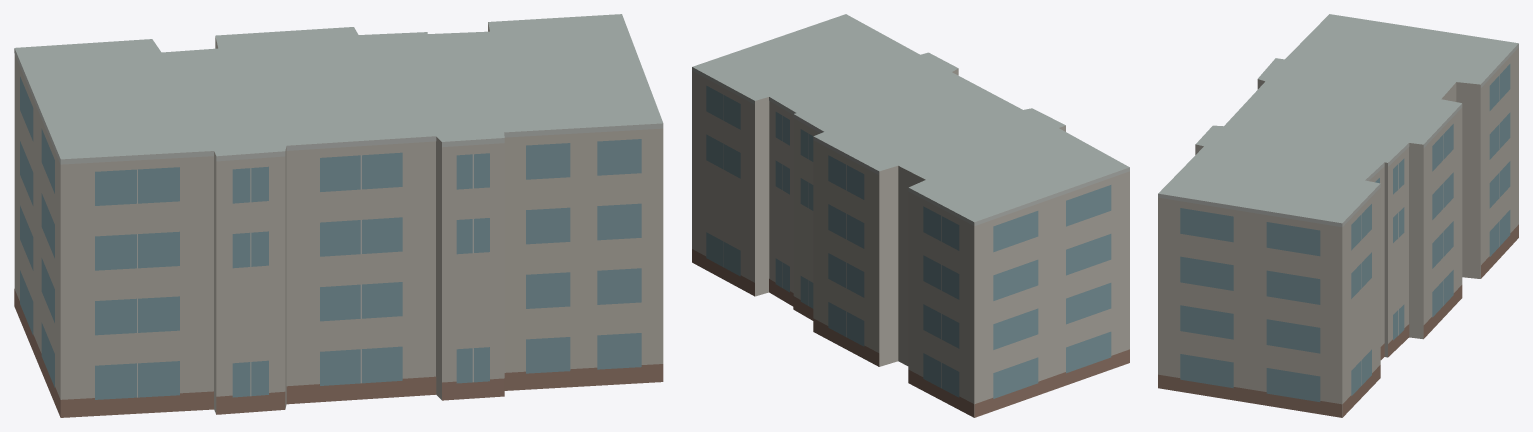
File: survey-upis-33008699.glb
The picture shows the model from 3 angles, left to right: view 1: azimuth 30°, elevation 25°; view 2: azimuth 150°, elevation 25°; view 3: azimuth 270°, elevation 25°; orthographic projection. The views are drawn at different scales.
Parts seen in each view (by area): view 1: survey-upis-33008699.tmp; view 2: survey-upis-33008699.tmp; view 3: survey-upis-33008699.tmp.
Part boxes in pixels (bbox=[...]): survey-upis-33008699.tmp: bbox=[14, 14, 663, 417]; survey-upis-33008699.tmp: bbox=[692, 14, 1129, 417]; survey-upis-33008699.tmp: bbox=[1158, 14, 1518, 417].
Bounding box in the file's own units: 27.93 × 12.1 × 20.34.
